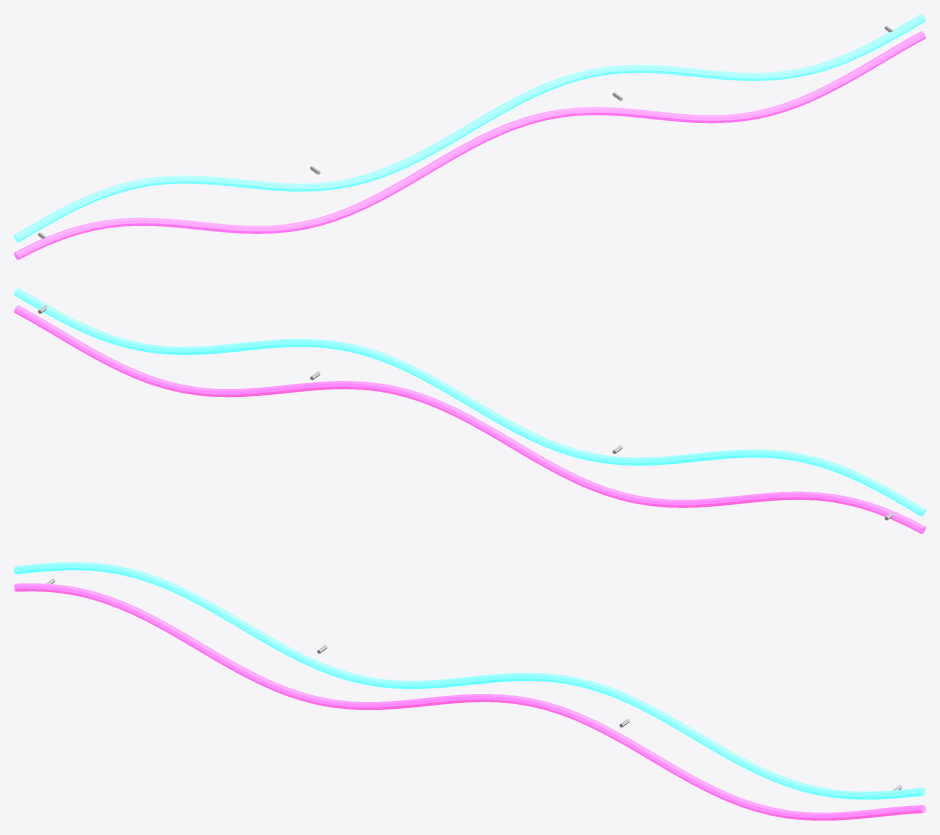
File: tideline_neon_wave.glb
The picture shows the model from 3 angles, top to bottom: view 1: azimuth 30°, elevation 25°; view 2: azimuth 150°, elevation 25°; view 3: azimuth 330°, elevation 25°; orthographic projection.
Parts seen in each view (by area): view 1: tideline_neon_wave; view 2: tideline_neon_wave; view 3: tideline_neon_wave.
Part boxes in pixels (left/top/right/bottom): tideline_neon_wave: left=14, top=14, right=925, bottom=259; tideline_neon_wave: left=14, top=288, right=925, bottom=533; tideline_neon_wave: left=14, top=562, right=925, bottom=820.
Size of the model in its own units: 6.02 by 0.5686 by 0.105.
